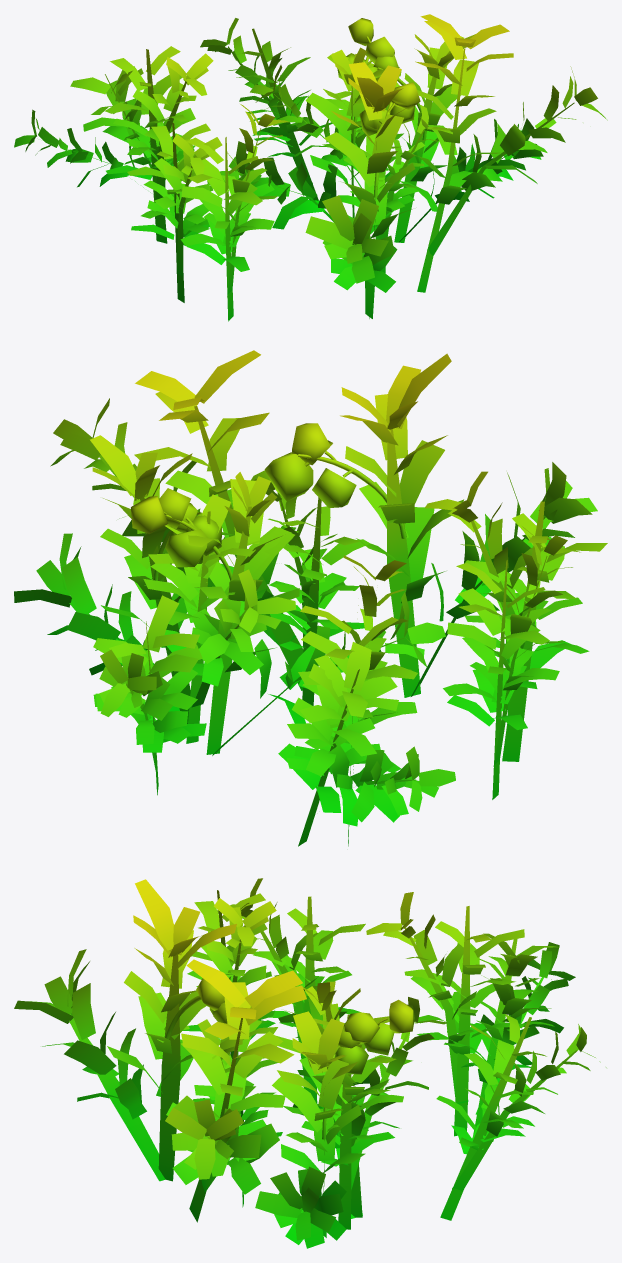
File: Lingonberry_LOD3_Var6.fbx
3 views of the same model, one above another, from view 1: azimuth 30°, elevation 25°; view 2: azimuth 150°, elevation 25°; view 3: azimuth 270°, elevation 25° (orthographic). The views are drawn at different scales.
Parts seen in each view (by area): view 1: _vl8c_Var6_LOD3; view 2: _vl8c_Var6_LOD3; view 3: _vl8c_Var6_LOD3.
Part boxes in pixels (<box>): _vl8c_Var6_LOD3: <box>14,14,607,321</box>; _vl8c_Var6_LOD3: <box>14,350,607,846</box>; _vl8c_Var6_LOD3: <box>14,878,606,1248</box>.
Bounding box in the file's own units: 26.15 × 14.36 × 26.39.
